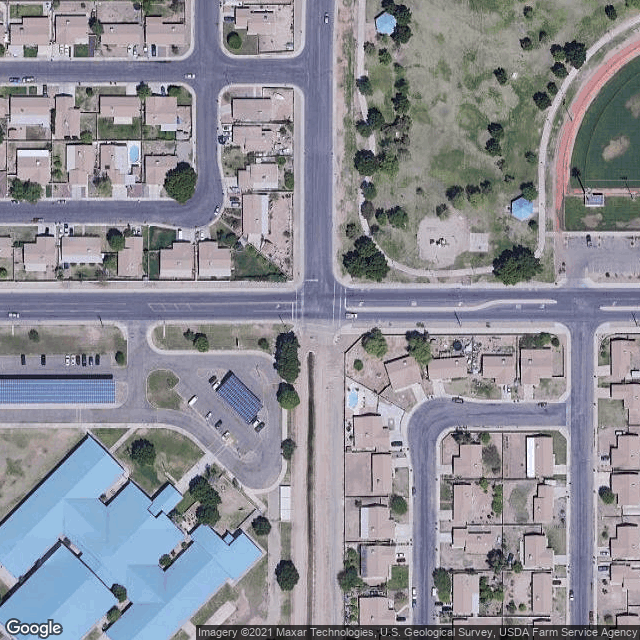carport-fixed: (1, 376, 116, 404), (216, 370, 268, 423)
